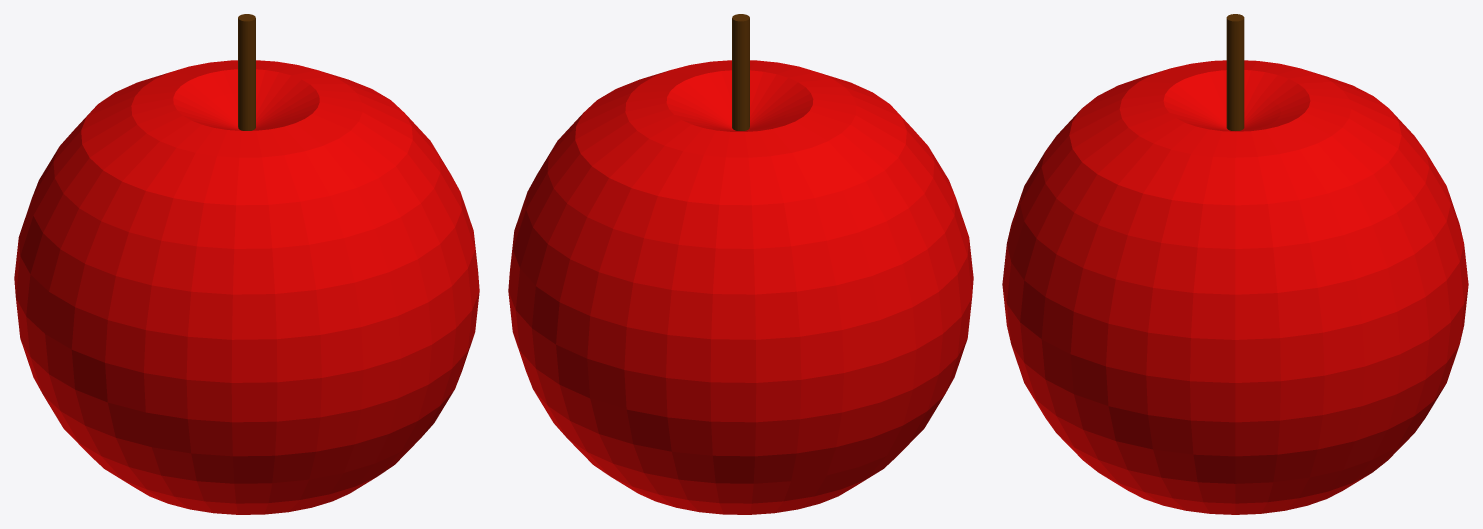
Rendered from apple_model.gltf.
3 views of the same model, side by side, from view 1: azimuth 30°, elevation 25°; view 2: azimuth 150°, elevation 25°; view 3: azimuth 270°, elevation 25° (orthographic).
Visible parts, largest first — view 1: Sphere; view 2: Sphere; view 3: Sphere.
Boxes of the visible parts, x1,y1,x2,y2 form: Sphere: (14,14,479,514); Sphere: (508,14,973,514); Sphere: (1002,14,1468,514).
Size of the model in its own units: 0.28 by 0.3083 by 0.28.
